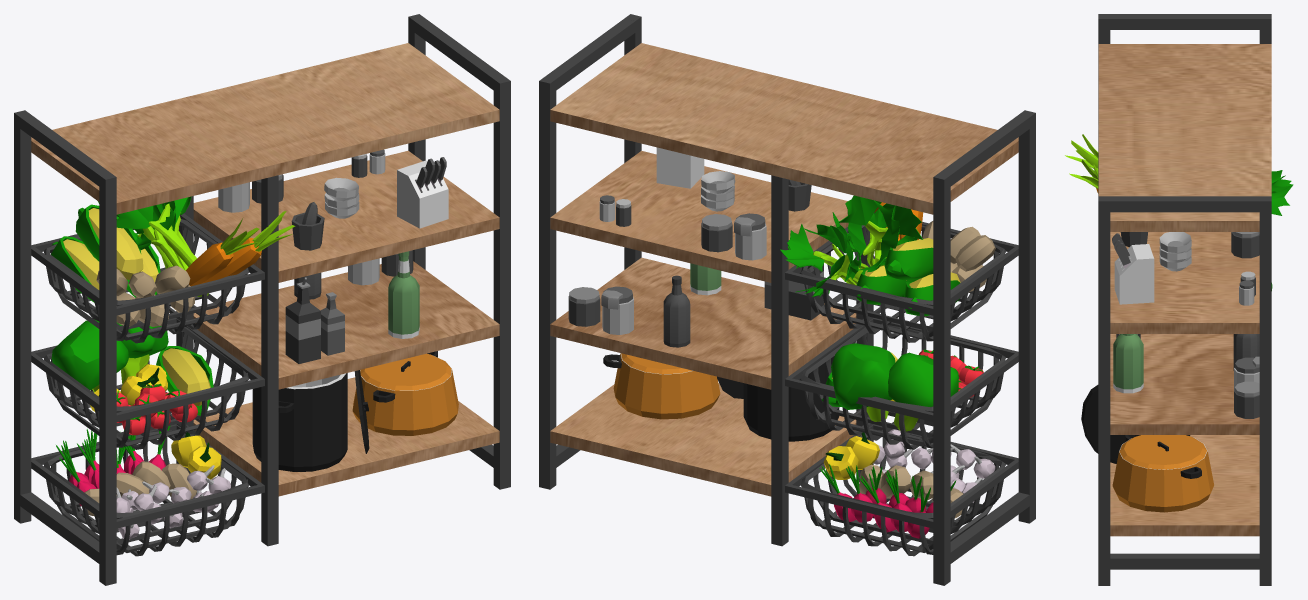
Rendered from Shelf_1.fbx.
The picture shows the model from 3 angles, left to right: view 1: azimuth 30°, elevation 25°; view 2: azimuth 150°, elevation 25°; view 3: azimuth 270°, elevation 25°; orthographic projection. The views are drawn at different scales.
Visible parts, largest first — view 1: Shelve_1; view 2: Shelve_1; view 3: Shelve_1.
Boxes of the visible parts, x1,y1,x2,y2 form: Shelve_1: [14, 14, 510, 585]; Shelve_1: [539, 14, 1035, 585]; Shelve_1: [1065, 14, 1293, 585].
Size of the model in its own units: 558 by 534 by 289.
Materials: 24 (1 with a texture image).
